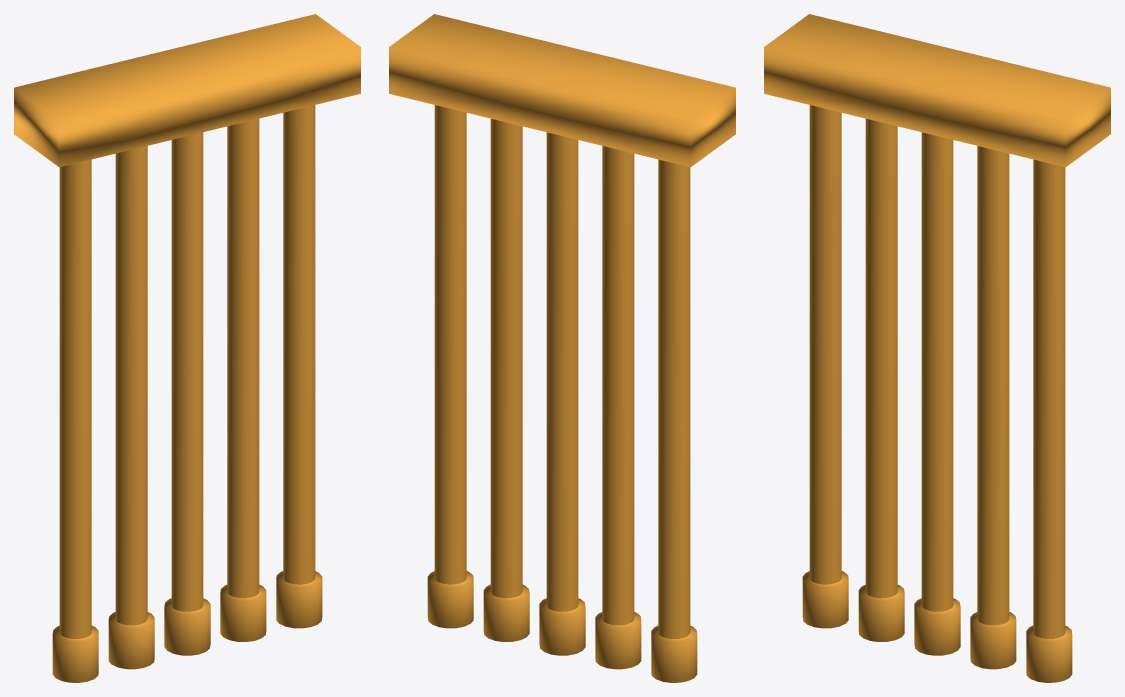
Rendered from SM_Main_Canons.obj.
3 views of the same model, side by side, from view 1: azimuth 30°, elevation 25°; view 2: azimuth 150°, elevation 25°; view 3: azimuth 330°, elevation 25° (orthographic).
Size of the model in its own units: 5400 by 9900 by 1400.
